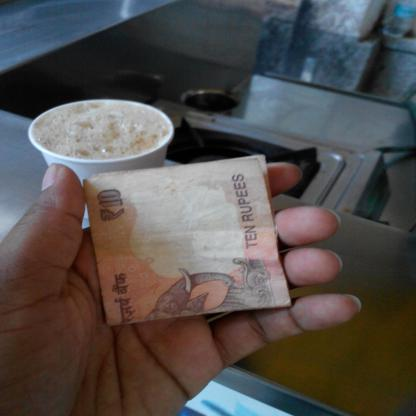Old10Back: (82, 153, 294, 327)
